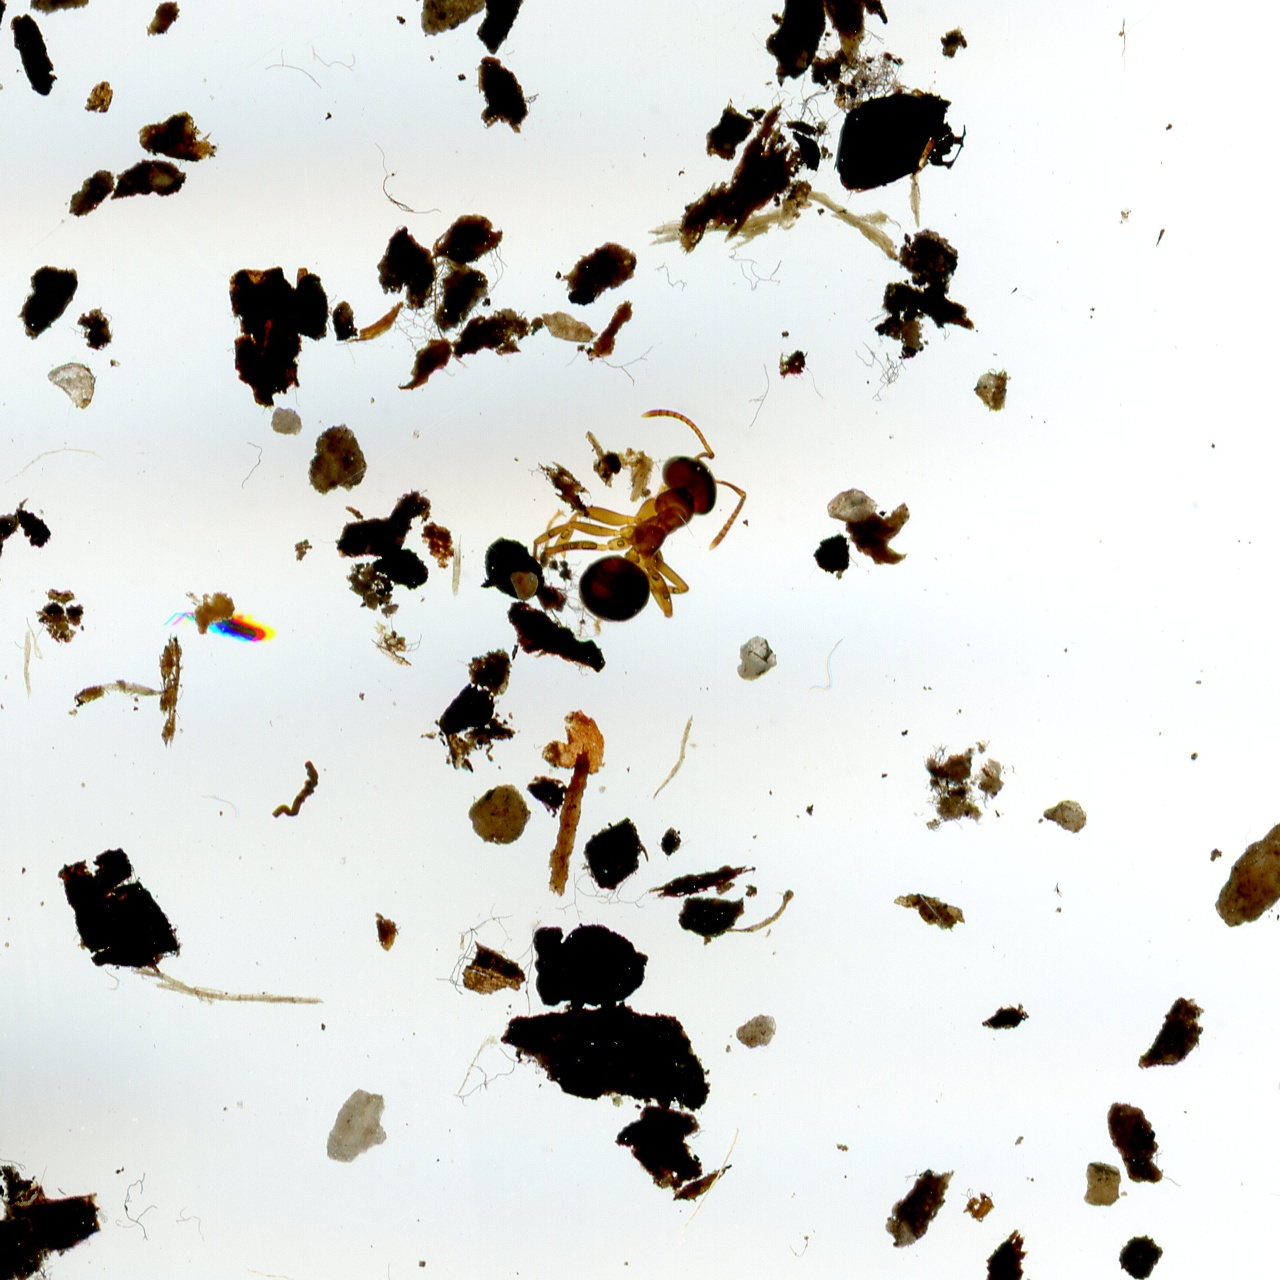arthropod: (505, 387, 788, 667), (157, 592, 284, 652)
